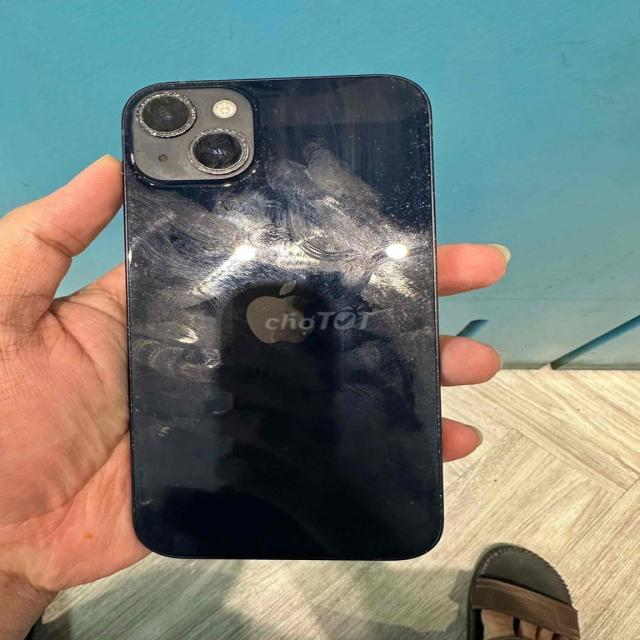gen_14: (112, 63, 462, 565)
